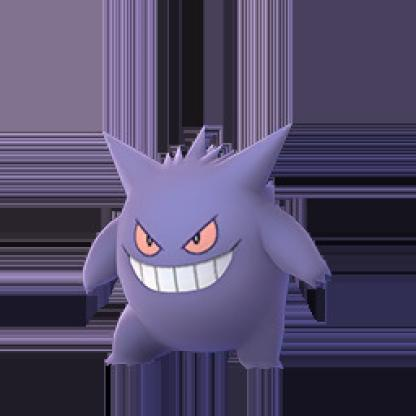Gengar: (84, 102, 342, 386)
